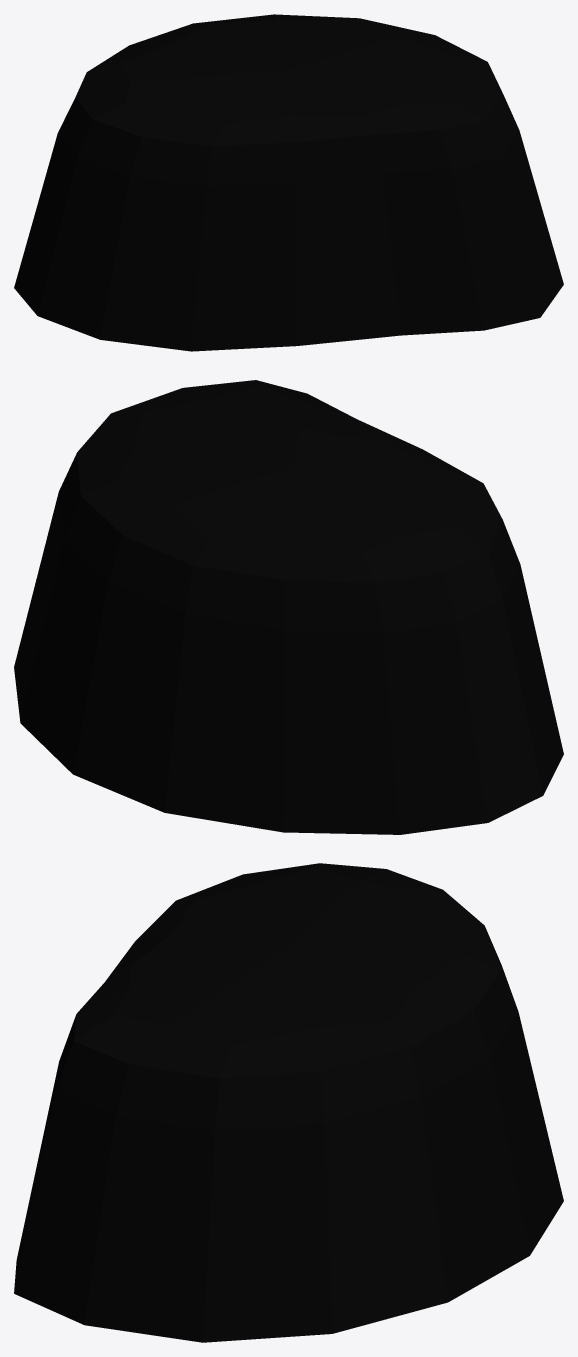
Rendered from Island_01b.fbx.
3 views of the same model, one above another, from view 1: azimuth 30°, elevation 25°; view 2: azimuth 150°, elevation 25°; view 3: azimuth 270°, elevation 25° (orthographic). The views are drawn at different scales.
Parts seen in each view (by area): view 1: Island_01b; view 2: Island_01b; view 3: Island_01b.
Part boxes in pixels (x1,y1,x2,y2): Island_01b: (14, 14, 563, 351); Island_01b: (14, 380, 563, 834); Island_01b: (14, 863, 563, 1342).
Bounding box in the file's own units: 1039 × 445 × 873.
